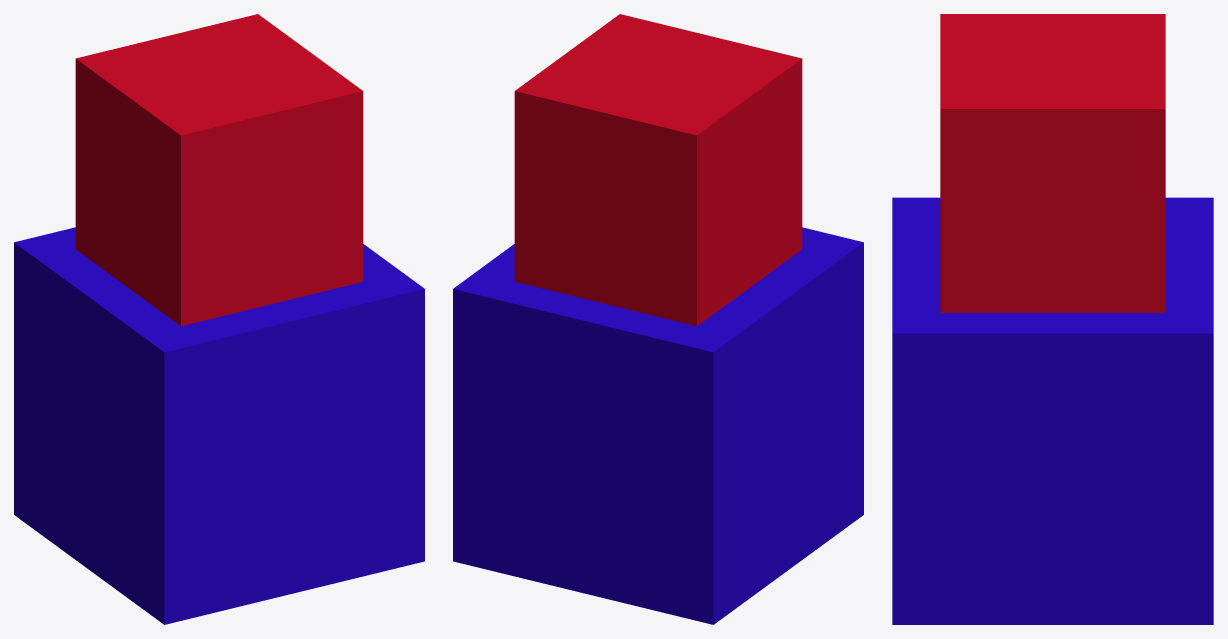
3 renders of one model, left to right at view 1: azimuth 30°, elevation 25°; view 2: azimuth 150°, elevation 25°; view 3: azimuth 270°, elevation 25°, orthographic. The views are drawn at different scales.
Parts seen in each view (by area): view 1: Cube; view 2: Cube; view 3: Cube.
Boxes of the visible parts, x1,y1,x2,y2 form: Cube: (14,14,424,624); Cube: (453,14,863,624); Cube: (892,14,1213,624).
Bounding box in the file's own units: 100 × 100 × 170.
